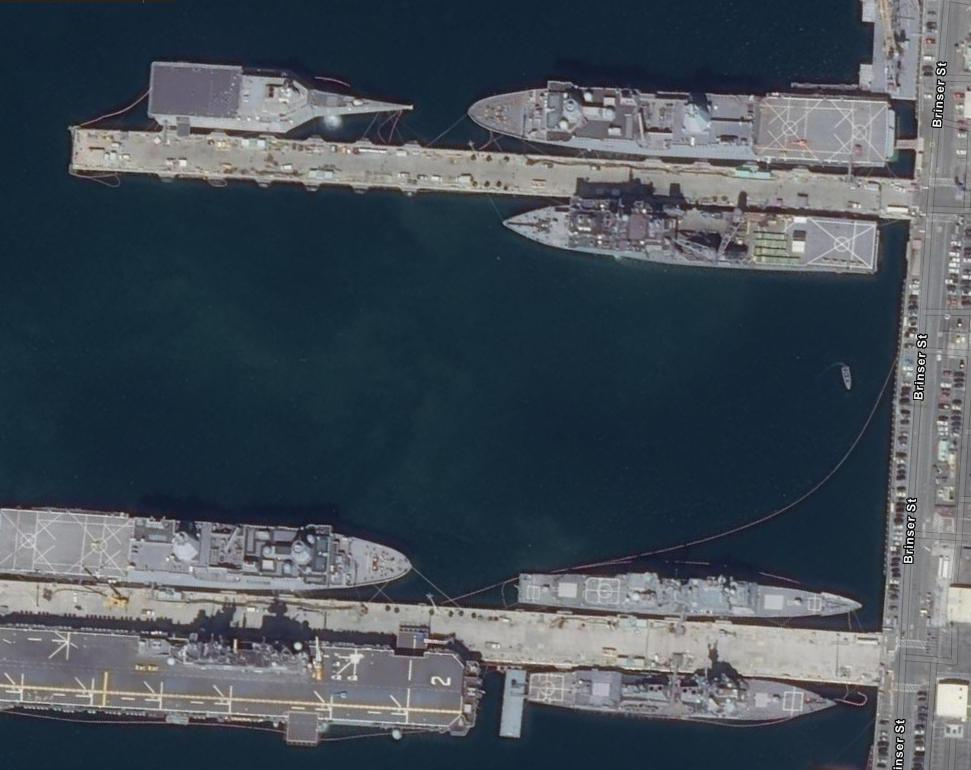amphiby: (458, 54, 908, 173), (495, 179, 897, 281)
destroyer: (516, 560, 865, 634)
fregate: (520, 666, 842, 730)
littoral combat ship: (145, 54, 426, 142)
